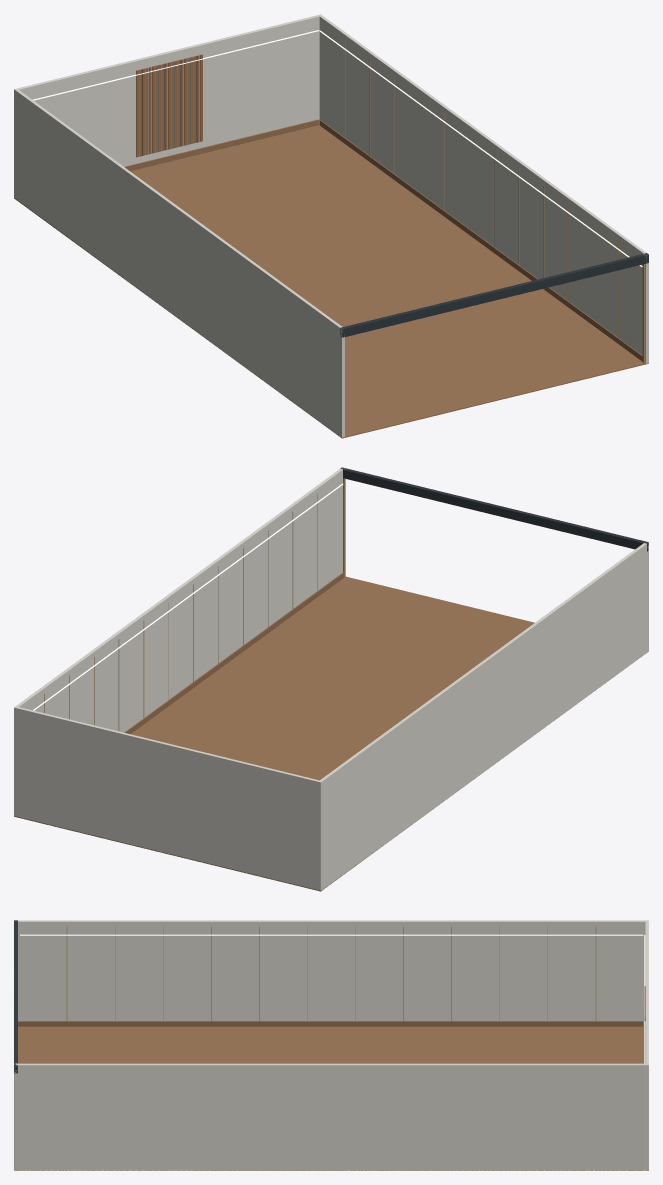
Rendered from booth-27x50.glb.
The picture shows the model from 3 angles, top to bottom: view 1: azimuth 30°, elevation 25°; view 2: azimuth 150°, elevation 25°; view 3: azimuth 270°, elevation 25°; orthographic projection. The views are drawn at different scales.
Visible parts, largest first — view 1: inset_oak_floor, mesh_side_-1, mesh_side_1, mesh_rear, mesh_branding, oak_side_plinth_1, rear_oak_plinth, warm_side_wash_1; view 2: inset_oak_floor, mesh_side_-1, mesh_rear, mesh_side_1, mesh_branding, oak_side_plinth_1, warm_side_wash_1; view 3: mesh_side_1, mesh_side_-1, inset_oak_floor, oak_side_plinth_-1, warm_side_wash_-1, mesh_rear, mesh_branding.
Part boxes in pixels (box(x1,y1,x2,y2)): inset_oak_floor: box(14, 125, 648, 438); mesh_side_-1: box(15, 90, 344, 437); mesh_side_1: box(319, 15, 648, 363); mesh_rear: box(14, 14, 321, 198); mesh_branding: box(340, 253, 648, 337); oak_side_plinth_1: box(319, 120, 642, 361); rear_oak_plinth: box(124, 119, 319, 171); warm_side_wash_1: box(319, 30, 642, 266); inset_oak_floor: box(14, 576, 647, 891); mesh_side_-1: box(320, 542, 648, 889); mesh_rear: box(14, 706, 322, 890); mesh_side_1: box(16, 468, 342, 732); mesh_branding: box(340, 467, 648, 551); oak_side_plinth_1: box(124, 572, 343, 734); warm_side_wash_1: box(33, 483, 343, 710); mesh_side_1: box(14, 1063, 645, 1170); mesh_side_-1: box(18, 920, 645, 1025); inset_oak_floor: box(14, 1026, 648, 1170); oak_side_plinth_-1: box(18, 1021, 643, 1026); warm_side_wash_-1: box(20, 934, 643, 935); mesh_rear: box(645, 920, 648, 1170); mesh_branding: box(14, 920, 17, 1073).
Size of the model in its own units: 8.23 by 2.8 by 15.24.
